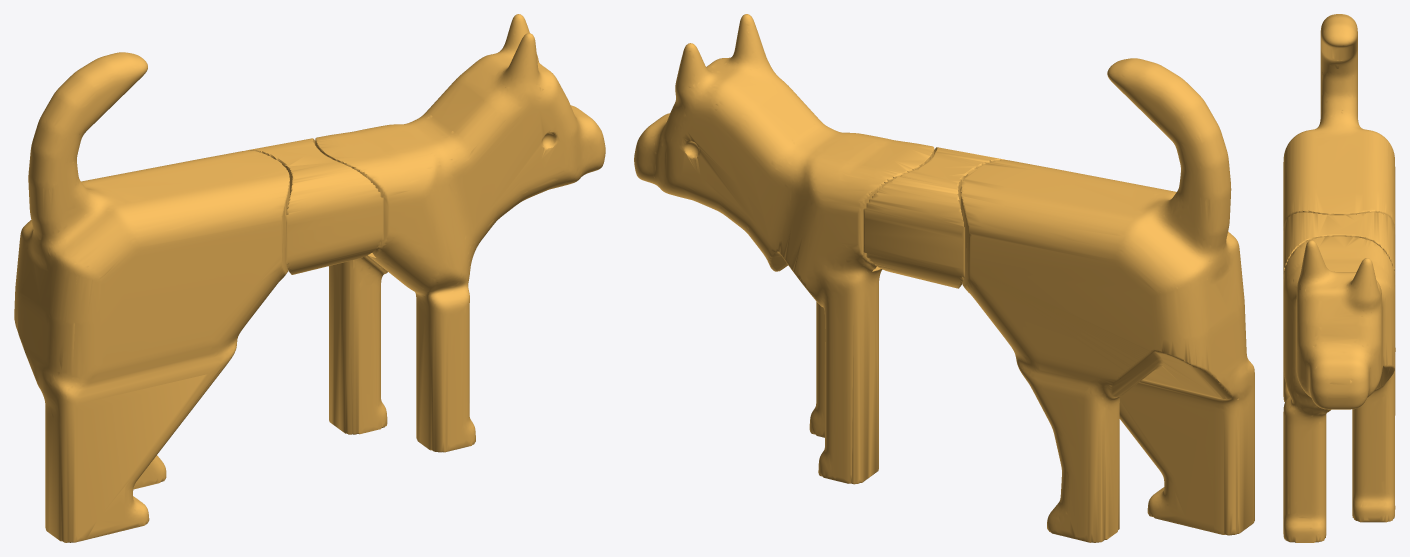
The model's file is dog_preview.glb.
3 renders of one model, left to right at view 1: azimuth 30°, elevation 25°; view 2: azimuth 150°, elevation 25°; view 3: azimuth 270°, elevation 25°, orthographic. The views are drawn at different scales.
Visible parts, largest first — view 1: rear, front, middle; view 2: rear, front, middle; view 3: front, rear, middle.
Part boxes in pixels (<box>): rear: <box>14,52,289,542</box>; front: <box>315,14,605,452</box>; middle: <box>246,138,383,274</box>; rear: <box>960,58,1254,542</box>; front: <box>634,14,934,484</box>; middle: <box>863,147,1005,288</box>; front: <box>1283,236,1395,542</box>; rear: <box>1283,14,1395,415</box>; middle: <box>1283,212,1395,284</box>.
Bounding box in the file's own units: 151 × 113 × 30.11.
